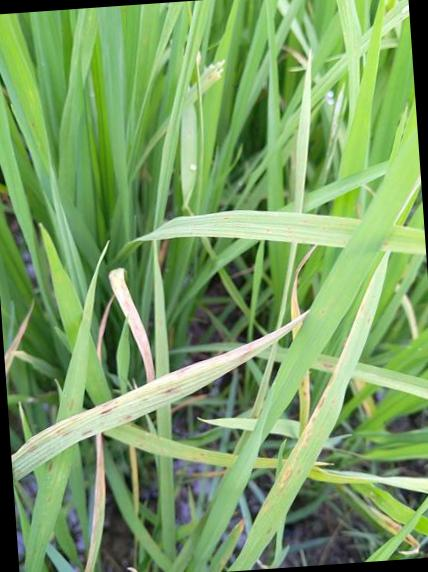Leaf Streak: (11, 313, 308, 484)
